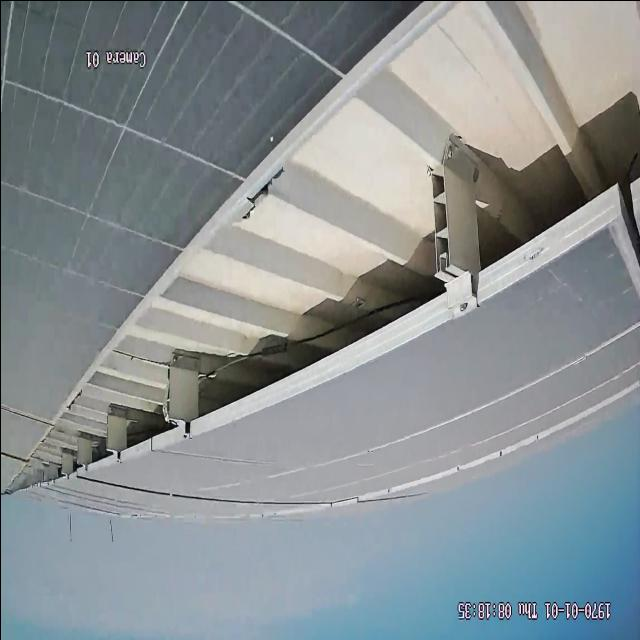outher panel: (1, 0, 640, 493)
